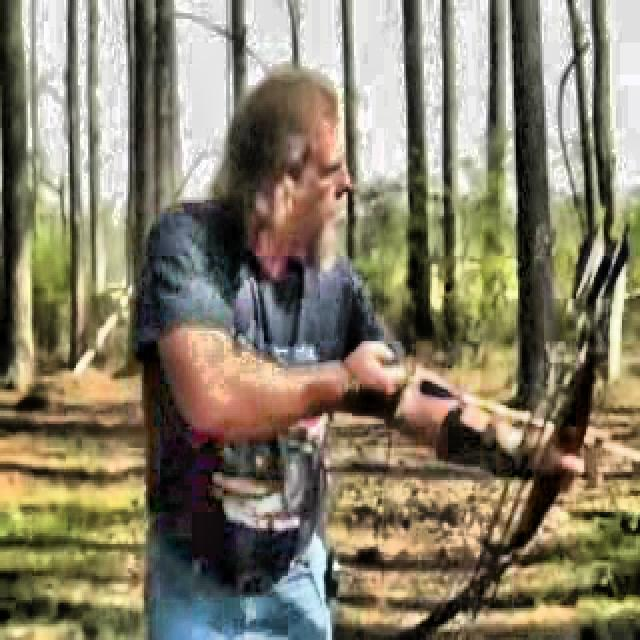I: (114, 70, 600, 584)
